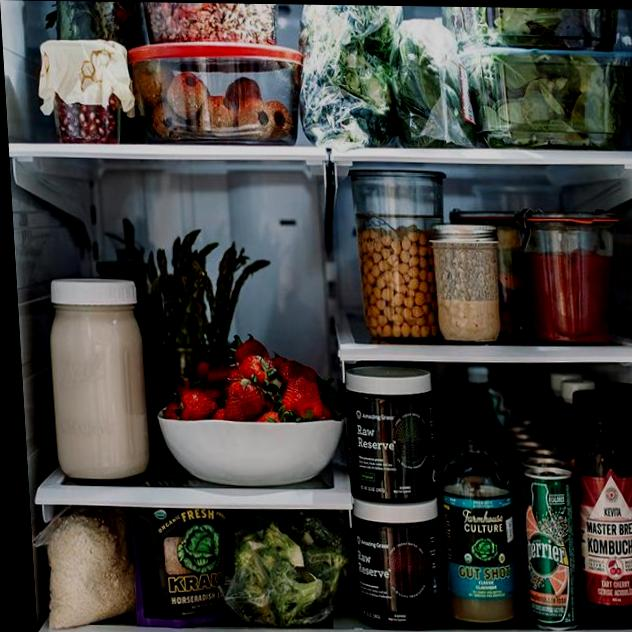asparagus: (140, 246, 238, 353)
broccoli: (237, 525, 338, 620)
strawberries: (220, 380, 267, 418), (278, 378, 323, 417), (228, 354, 276, 386), (171, 388, 217, 420)
